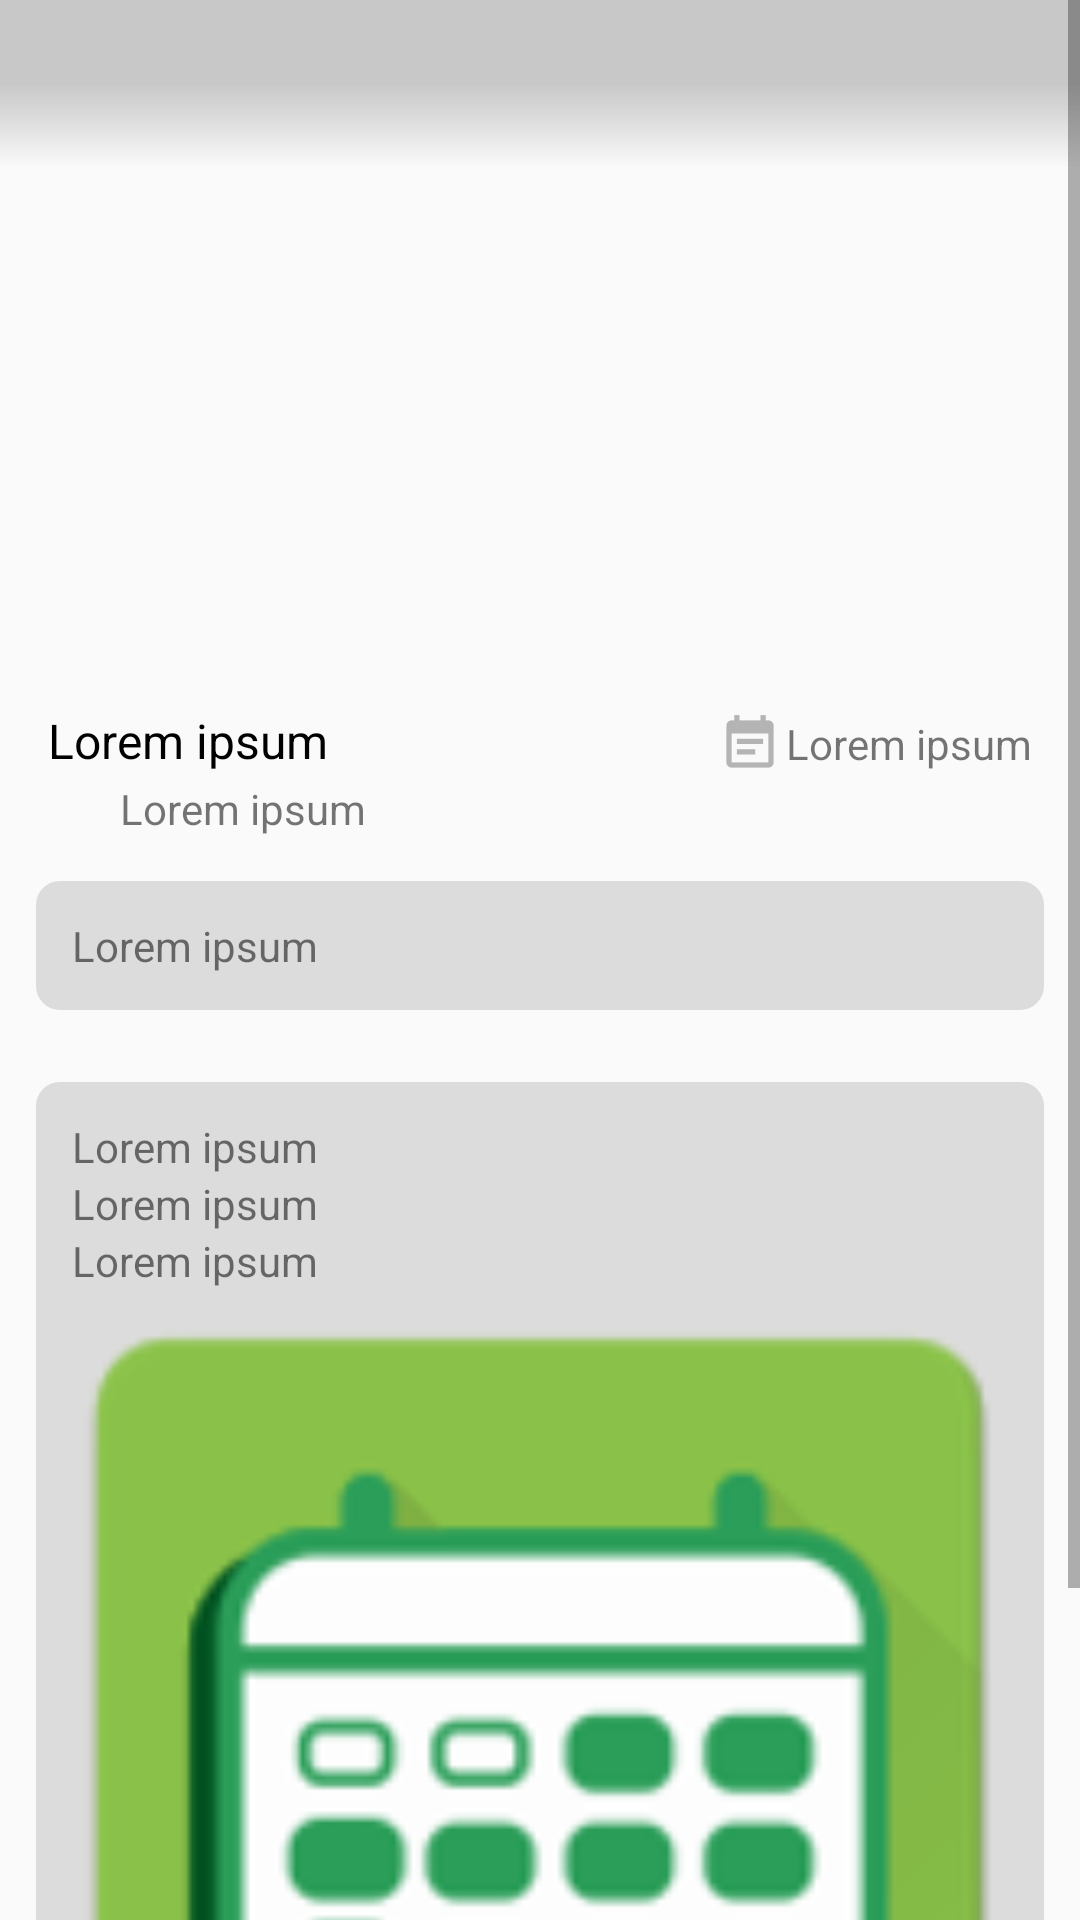

Where to tap for icons on this 1080px×1920px app screen, as (x=x, y=y):
event note: (x=750, y=741)
